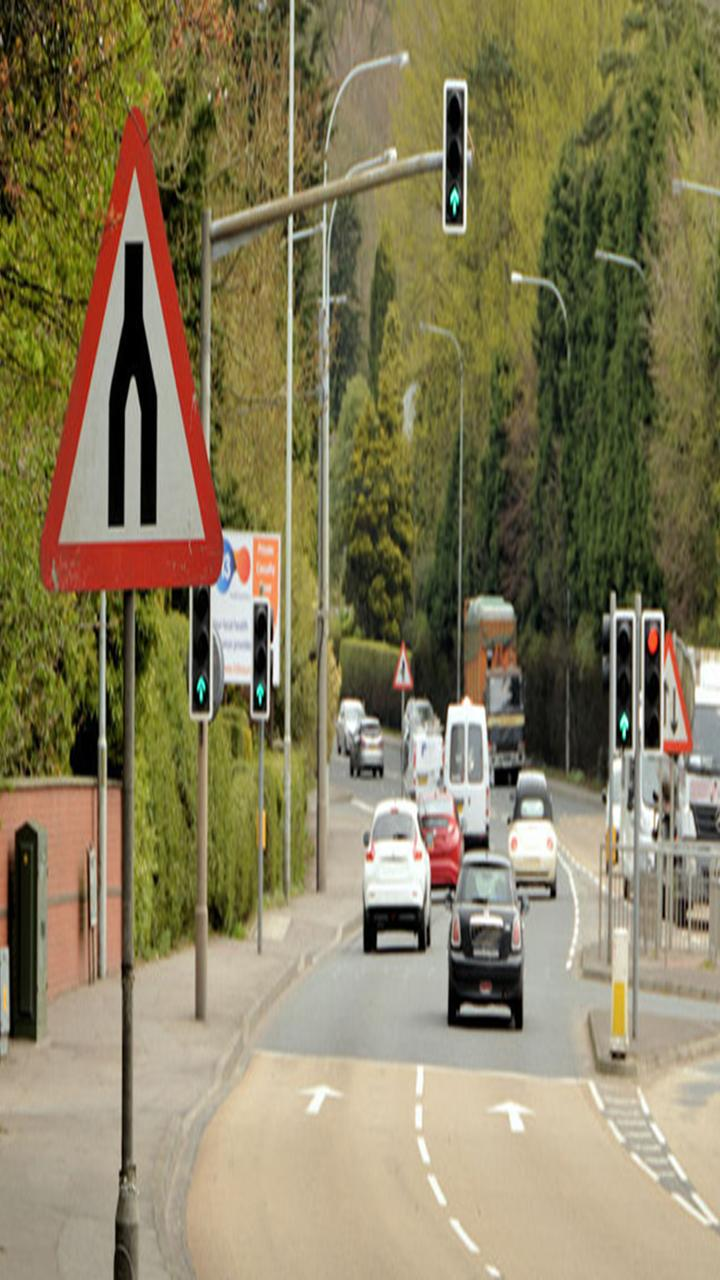Traffic sign: (35, 96, 248, 617), (376, 629, 422, 695)
vehicle: (420, 842, 543, 1036), (335, 787, 444, 953), (496, 763, 588, 905), (347, 715, 392, 787)
